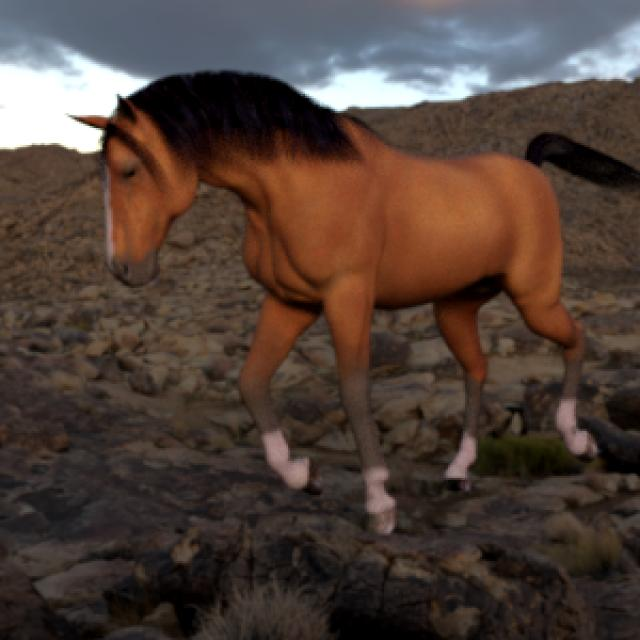horse: (77, 71, 640, 534)
